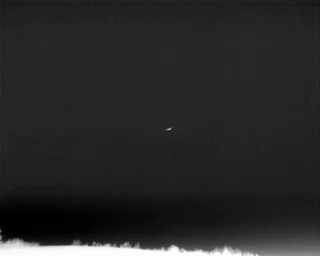BIRD: (164, 124, 174, 134)
